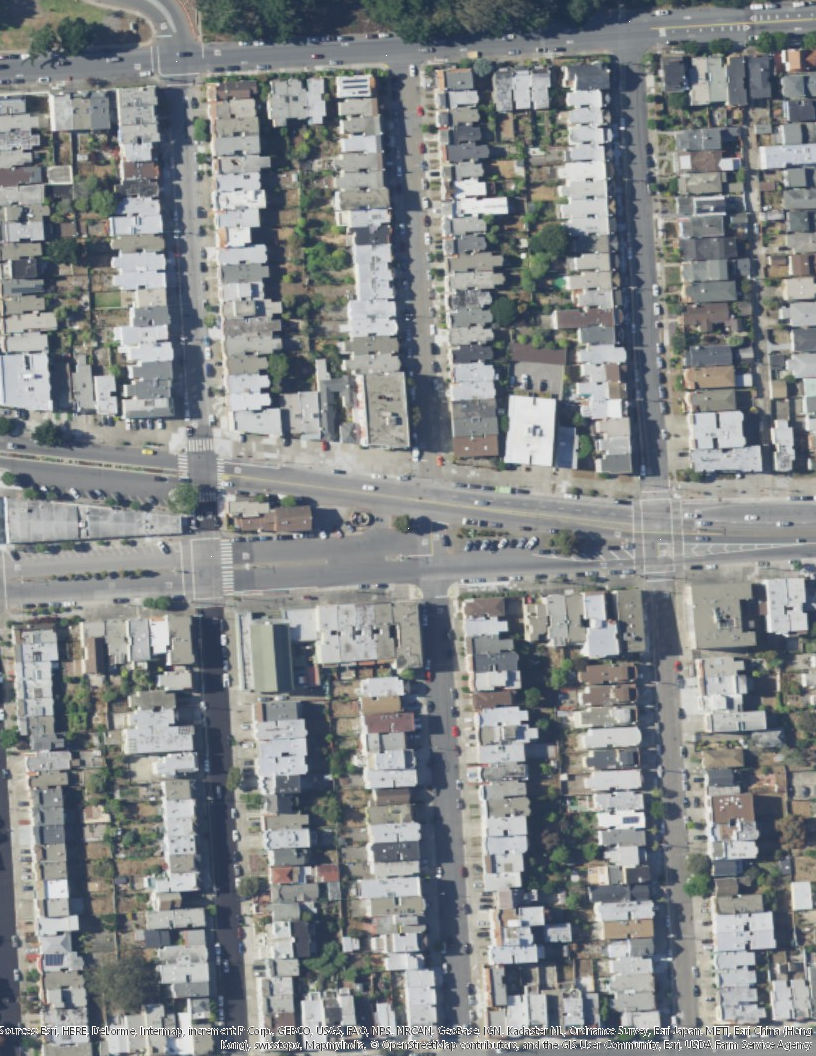zebracross: (218, 540, 235, 594), (187, 439, 216, 455), (177, 452, 191, 481), (215, 458, 226, 489)
